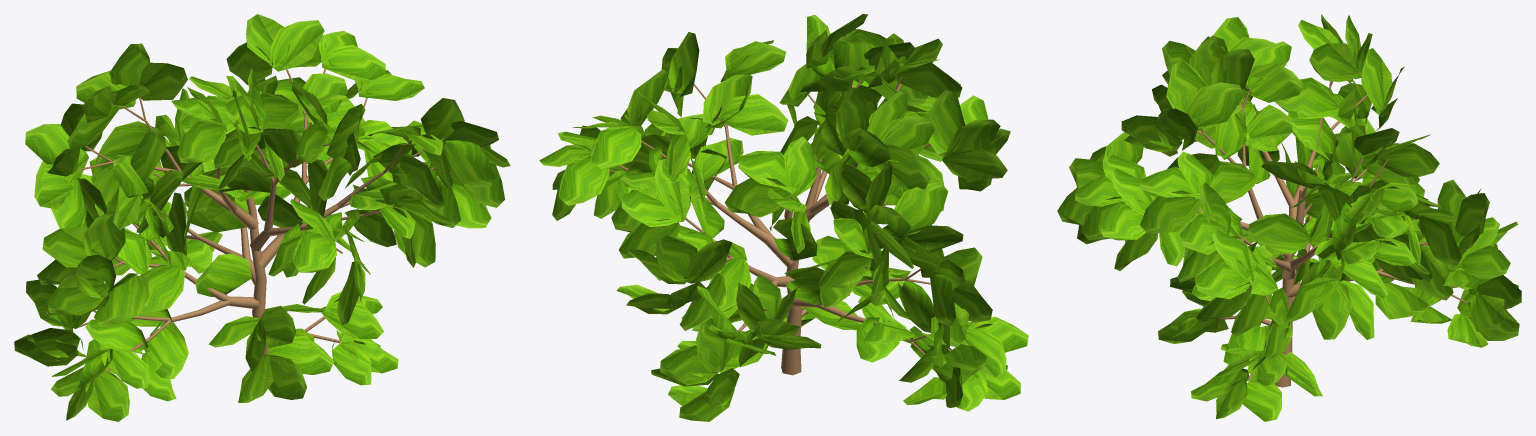
The model's file is bush.fbx.
3 views of the same model, side by side, from view 1: azimuth 30°, elevation 25°; view 2: azimuth 150°, elevation 25°; view 3: azimuth 270°, elevation 25° (orthographic). The views are drawn at different scales.
Visible parts, largest first — view 1: bushes1Leaf; view 2: bushes1Leaf; view 3: bushes1Leaf.
Boxes of the visible parts, x1,y1,x2,y2 form: bushes1Leaf: (14, 14, 510, 421); bushes1Leaf: (539, 14, 1028, 421); bushes1Leaf: (1057, 14, 1521, 421).
Bounding box in the file's own units: 2.88 × 2.07 × 2.71.
